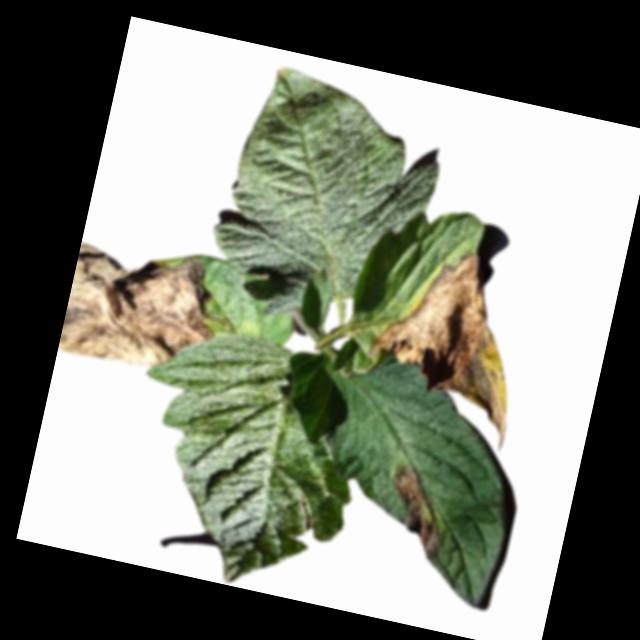Late_blight: (353, 233, 541, 450), (56, 229, 228, 386), (379, 466, 454, 560)
